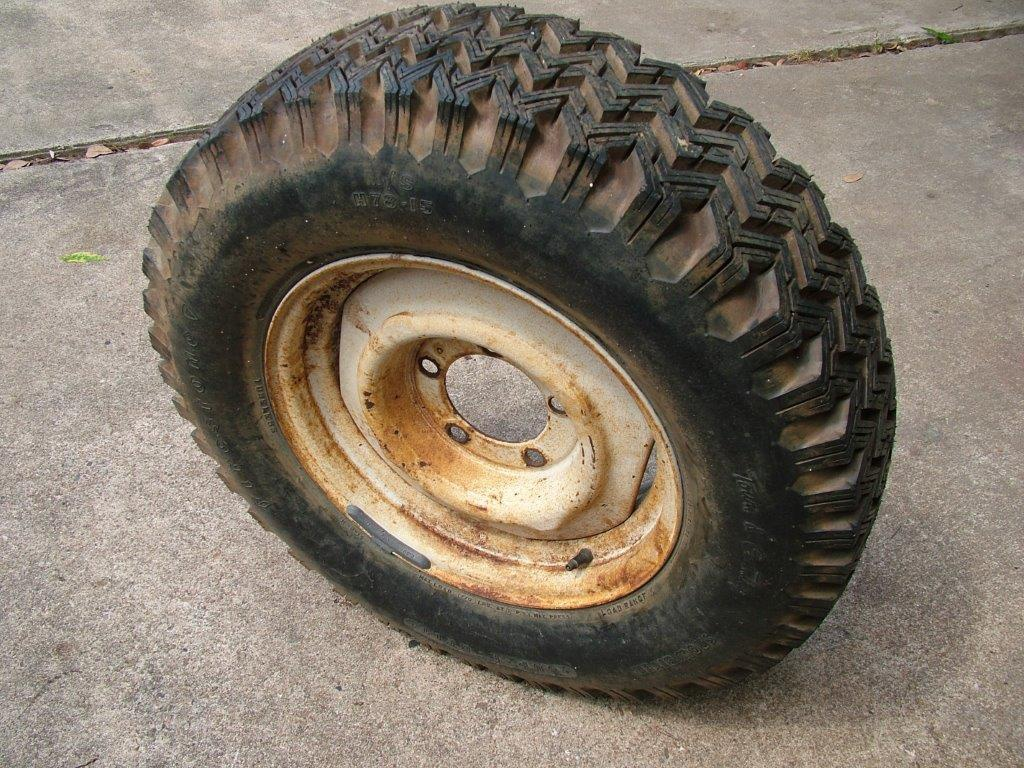tire: (145, 6, 901, 700)
